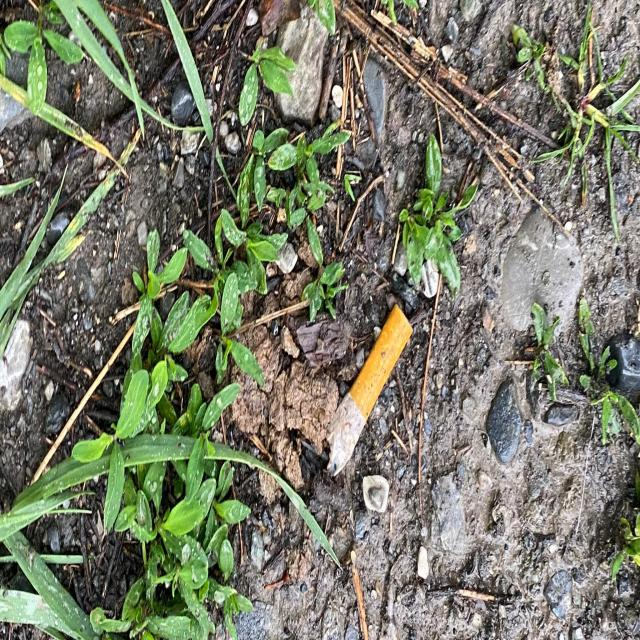other waste: (325, 301, 414, 478)
